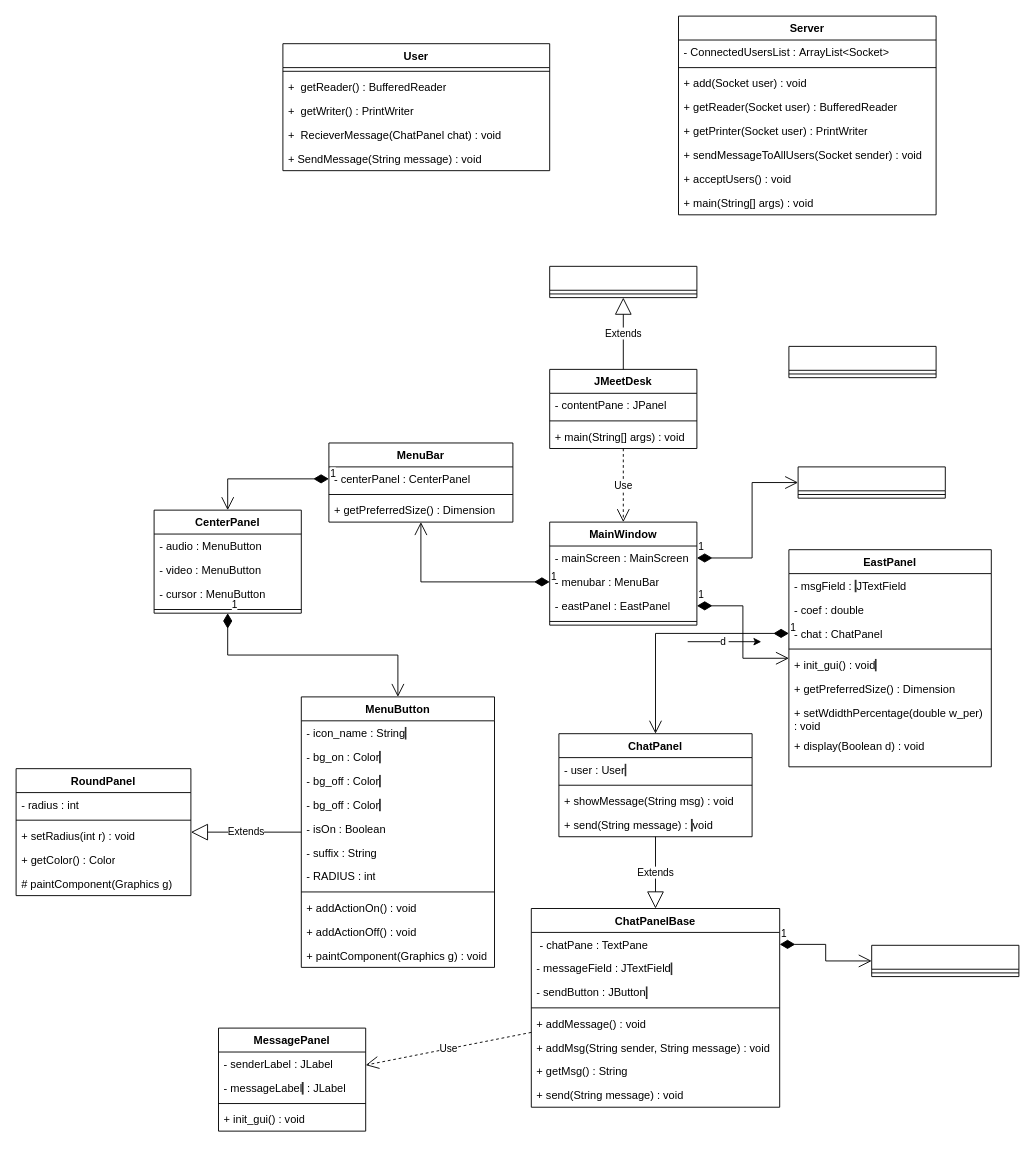
The diagram is 1035 pixels wide and 1150 high, and some of its shapes have lost their labels. Here are the shapes that lost their labels. From the top down, the centre of each, then its label:
At (623,281): "JFrame".
At (862,361): "JPanel".
At (871,482): "MainScreen".
At (945,960): "TextPane".
